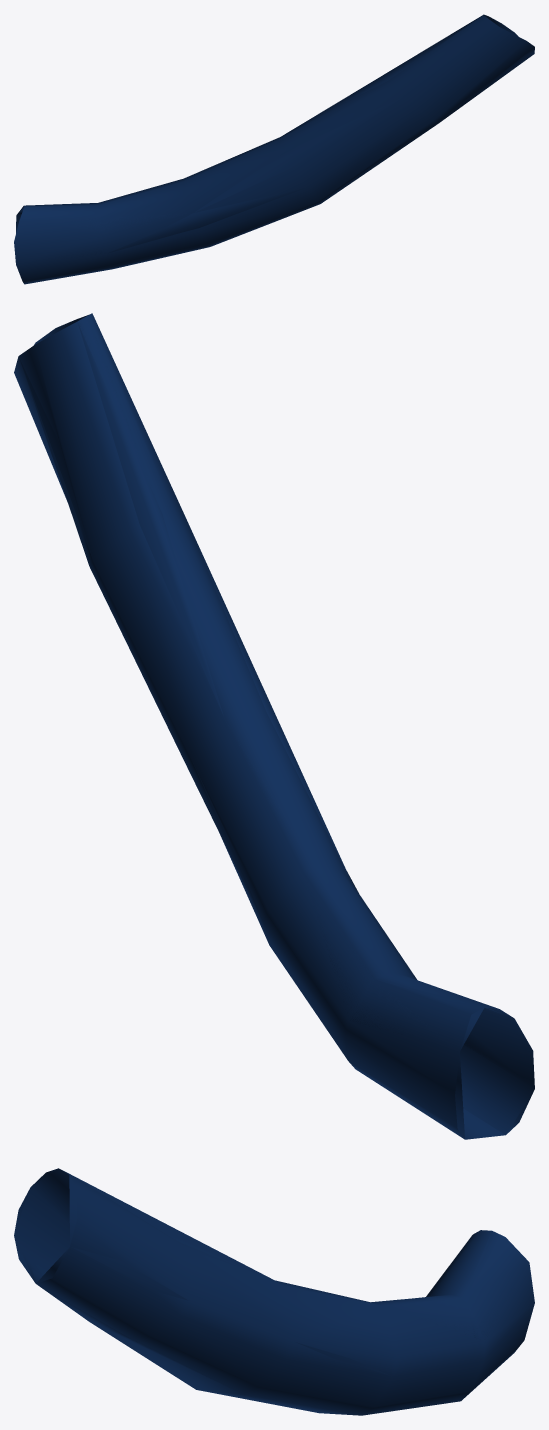
Rendered from R vena subclavia.fbx.
3 views of the same model, one above another, from view 1: azimuth 30°, elevation 25°; view 2: azimuth 150°, elevation 25°; view 3: azimuth 270°, elevation 25° (orthographic). The views are drawn at different scales.
Visible parts, largest first — view 1: R vena subclavia, R vena subclavia low; view 2: R vena subclavia, R vena subclavia low; view 3: R vena subclavia, R vena subclavia low.
Part boxes in pixels (x1,y1,x2,y2): R vena subclavia: (14, 14, 534, 284); R vena subclavia low: (16, 15, 533, 262); R vena subclavia: (14, 313, 534, 1139); R vena subclavia low: (19, 315, 534, 1138); R vena subclavia: (14, 1168, 534, 1415); R vena subclavia low: (14, 1168, 527, 1409).
Size of the model in its own units: 4.32 by 2.81 by 2.78.
